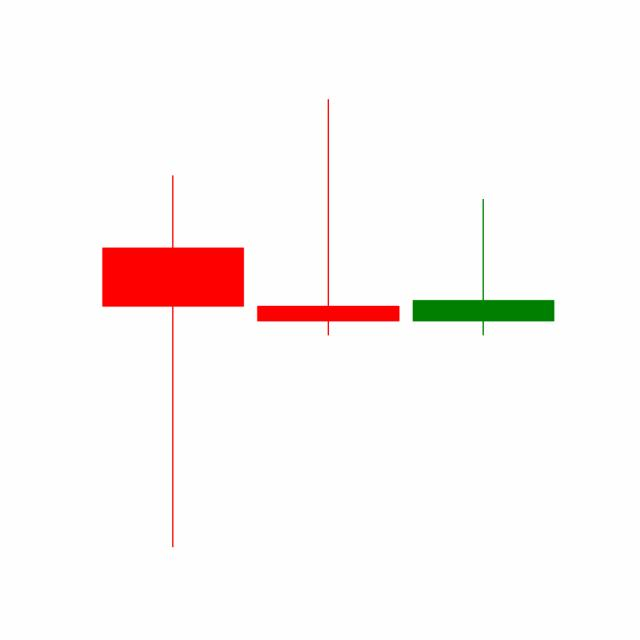Gravestone Doji: (405, 196, 561, 338)
